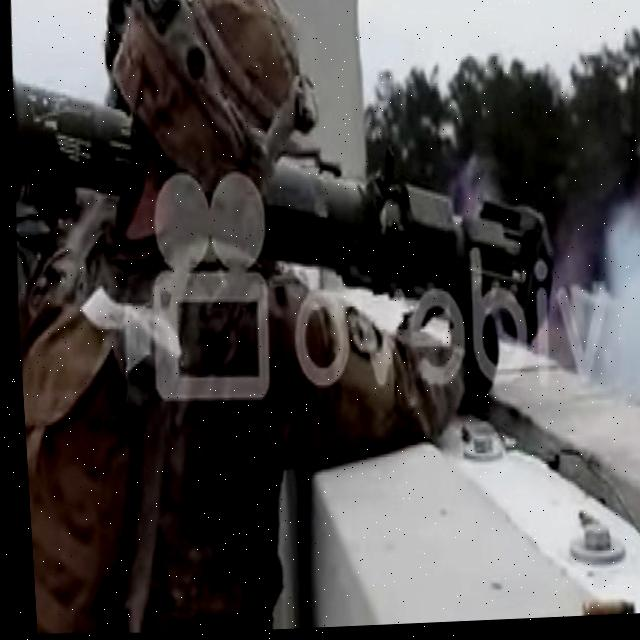rocket: (4, 74, 557, 372)
